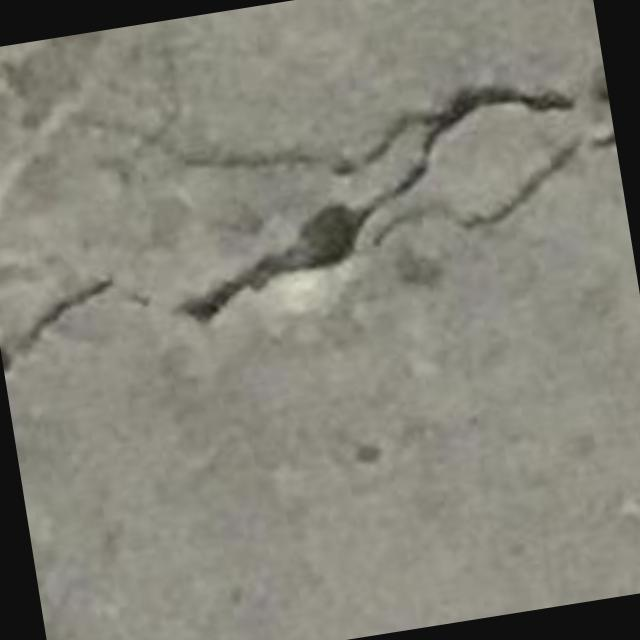crack: (179, 87, 572, 322), (84, 85, 572, 175), (177, 203, 372, 322), (374, 141, 578, 245), (454, 141, 578, 228), (1, 277, 112, 370), (422, 85, 574, 151), (589, 132, 615, 149)
